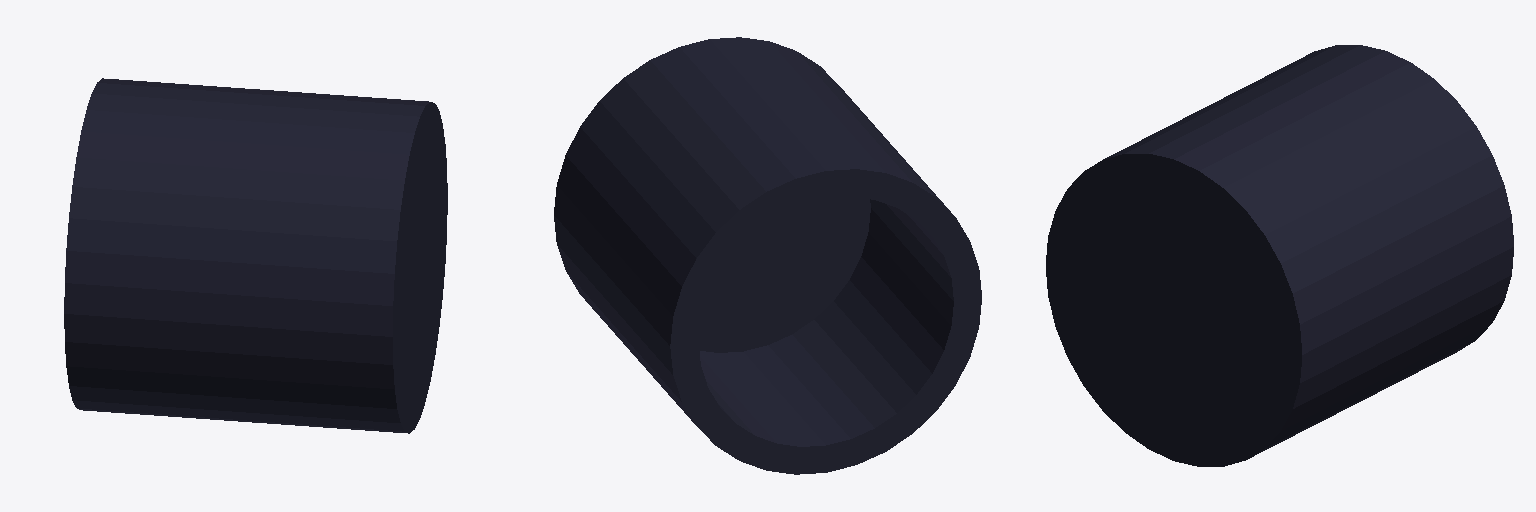
File: Cup_Small.obj
The picture shows the model from 3 angles: view 1: azimuth 30°, elevation 25°; view 2: azimuth 150°, elevation 25°; view 3: azimuth 270°, elevation 25°; orthographic projection.
Visible parts, largest first — view 1: Small_cup_Cylinder.008; view 2: Small_cup_Cylinder.008; view 3: Small_cup_Cylinder.008.
Part boxes in pixels (x1,y1,x2,y2): Small_cup_Cylinder.008: (64,78,447,433); Small_cup_Cylinder.008: (554,37,981,474); Small_cup_Cylinder.008: (1046,45,1513,466).
Size of the model in its own units: 13.07 by 9.28 by 13.07.